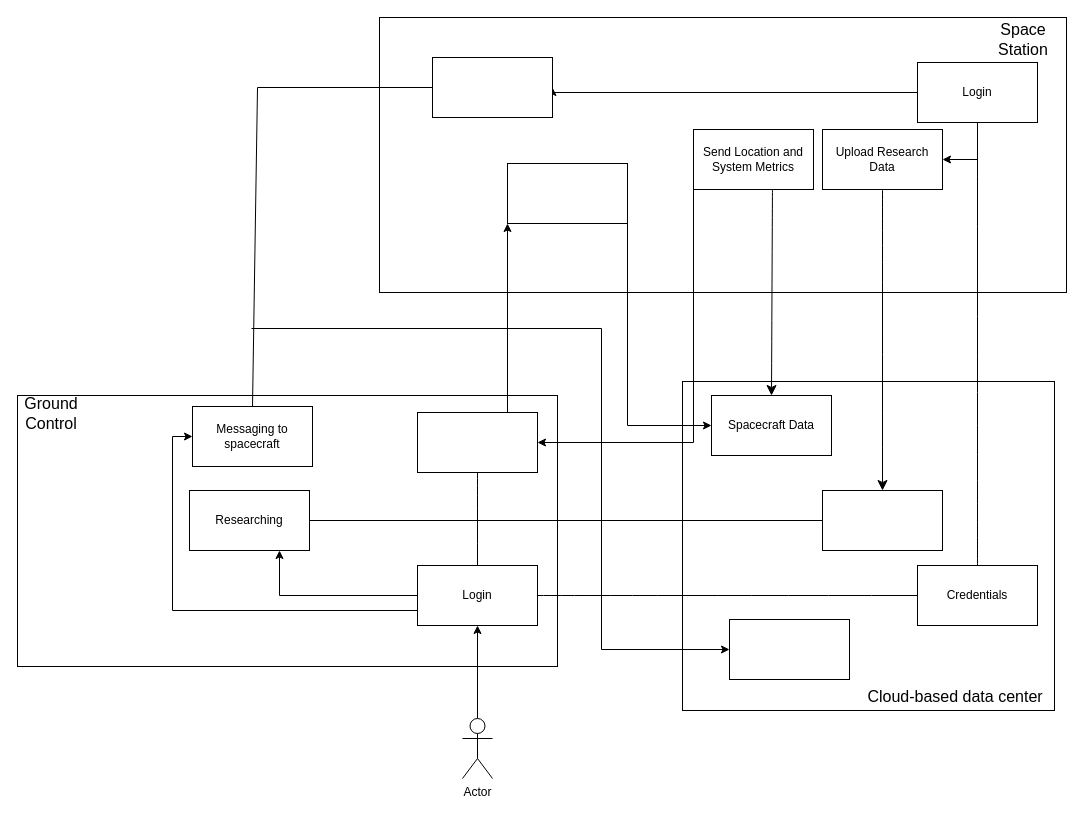
Some shapes in this 1084 by 817 pixel diagram are drawn without their labels. Each missing label, with the centre of its shape:
Communication Logs: the point at 789,649
Make Course Changes: the point at 567,193
Message to ground control: the point at 492,87
Monitor Spacecraft Data: the point at 477,442
Research Data: the point at 882,520
